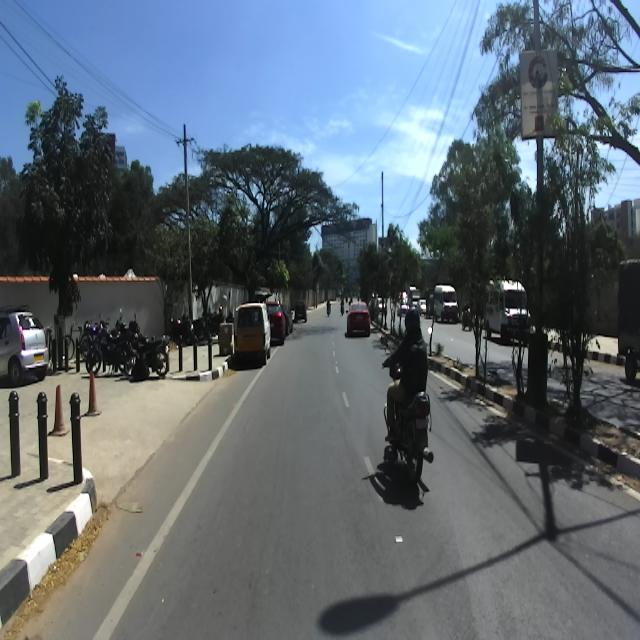barrier ahead at: (4, 384, 27, 490), (32, 388, 56, 485), (66, 392, 86, 488), (176, 335, 186, 378), (204, 335, 213, 376)
car ahead at: (229, 297, 271, 373)
electric pole ahead at: (166, 122, 216, 320)
motorcycle ahead at: (386, 395, 436, 502)
